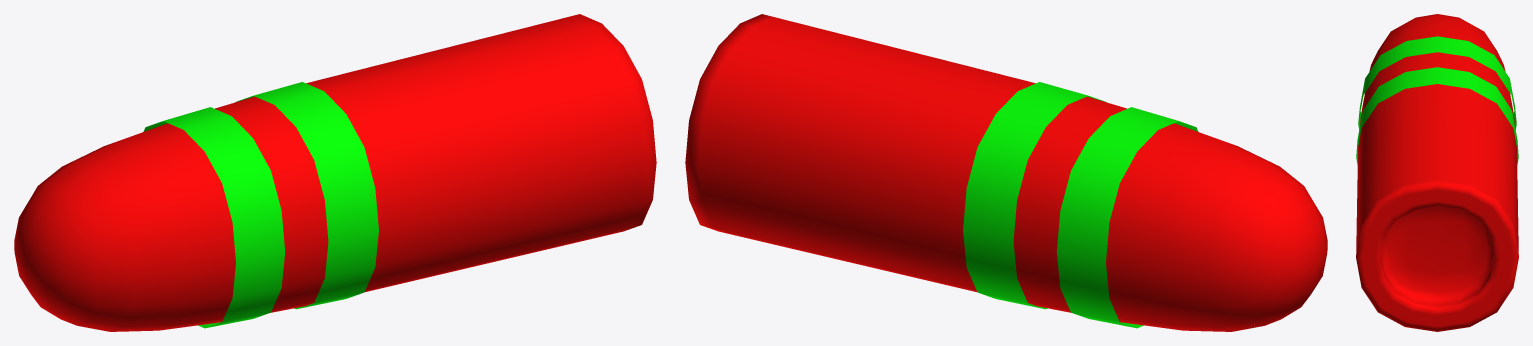
File: Xocobot_UpperArm.fbx
3 renders of one model, left to right at view 1: azimuth 30°, elevation 25°; view 2: azimuth 150°, elevation 25°; view 3: azimuth 270°, elevation 25°, orthographic. The views are drawn at different scales.
Visible parts, largest first — view 1: Xocobot_UpperArm; view 2: Xocobot_UpperArm; view 3: Xocobot_UpperArm.
Part boxes in pixels (x1,y1,x2,y2): Xocobot_UpperArm: (14, 14, 656, 331); Xocobot_UpperArm: (685, 14, 1327, 331); Xocobot_UpperArm: (1356, 14, 1518, 331).
Bounding box in the file's own units: 19.65 × 6.46 × 6.46.
